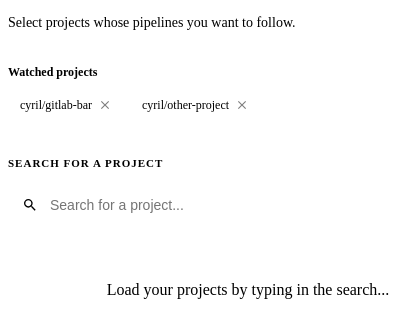
ProjectsPage › removing a chip persists the reduced list
Check: the text "cyril/other-project" is shown, box left=142, top=98, right=249, bottom=112
Check: the text "cyril/gitlab-bar" is shown, box left=20, top=98, right=112, bottom=112
Click the icon next to "cyril/gitlab-bar" at (105, 105), box left=98, top=98, right=112, bottom=112
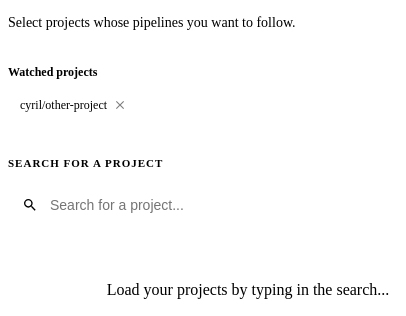
Check: the text "cyril/other-project" is shown, box left=20, top=98, right=127, bottom=112
Check: the text "cyril/gitlab-bar" is gone
